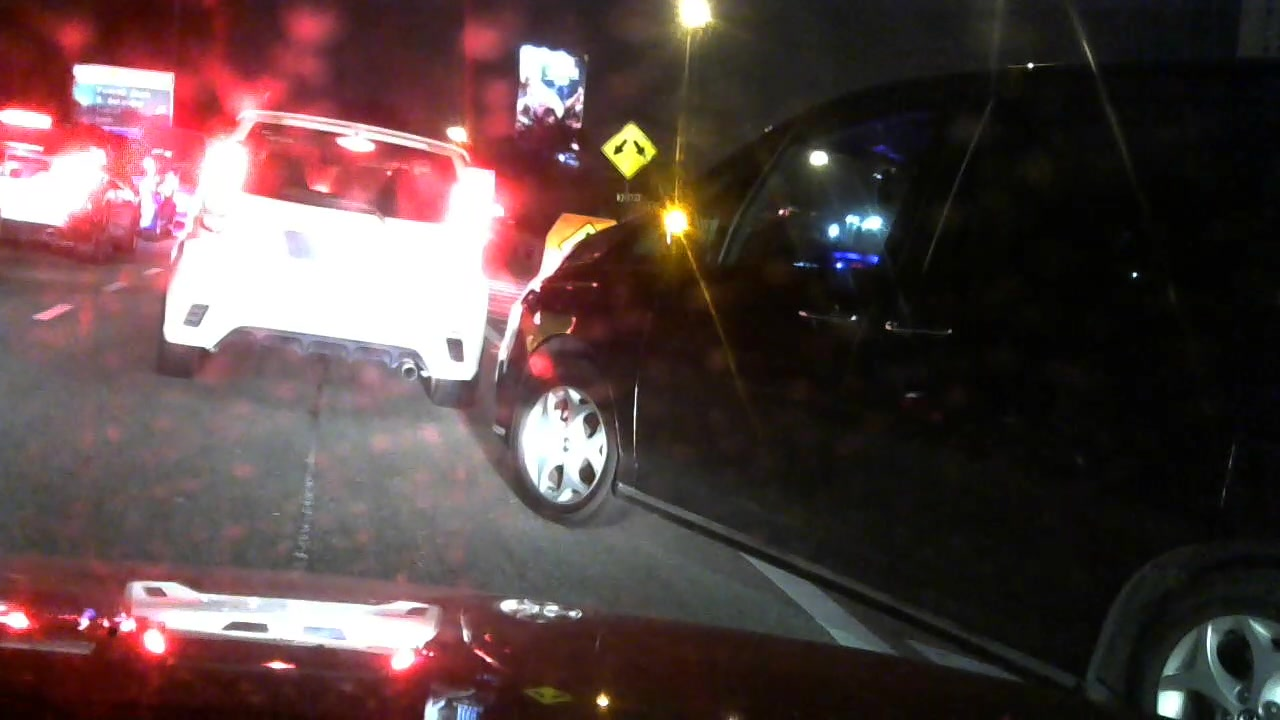Car: (477, 45, 1235, 559), (165, 97, 488, 416), (1, 105, 146, 257), (116, 144, 178, 236)
